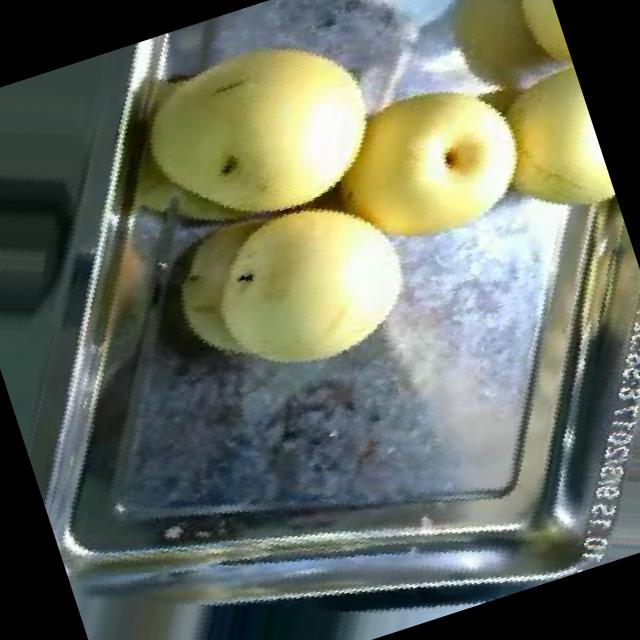Fruit: (77, 0, 433, 294), (126, 138, 452, 432), (284, 32, 562, 293), (469, 0, 579, 102)
